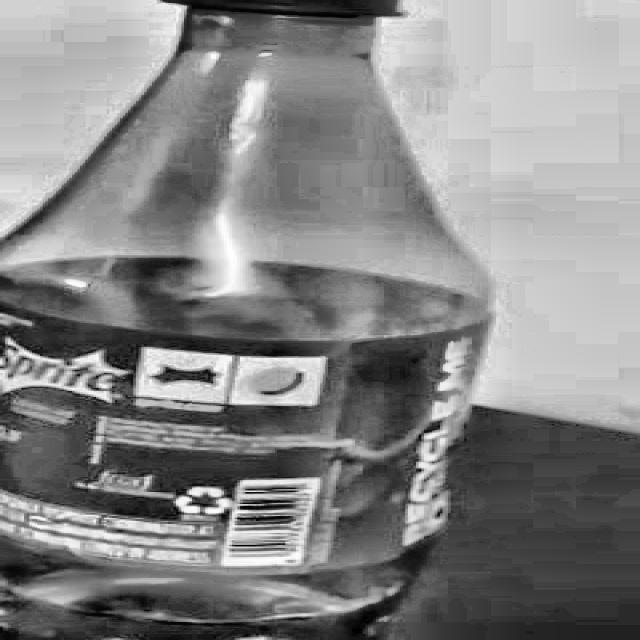bottle: (0, 0, 496, 640)
